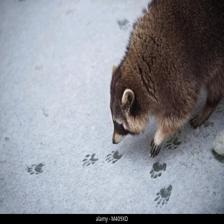raccoon: (153, 183, 175, 207), (105, 147, 127, 168), (77, 151, 100, 167)
